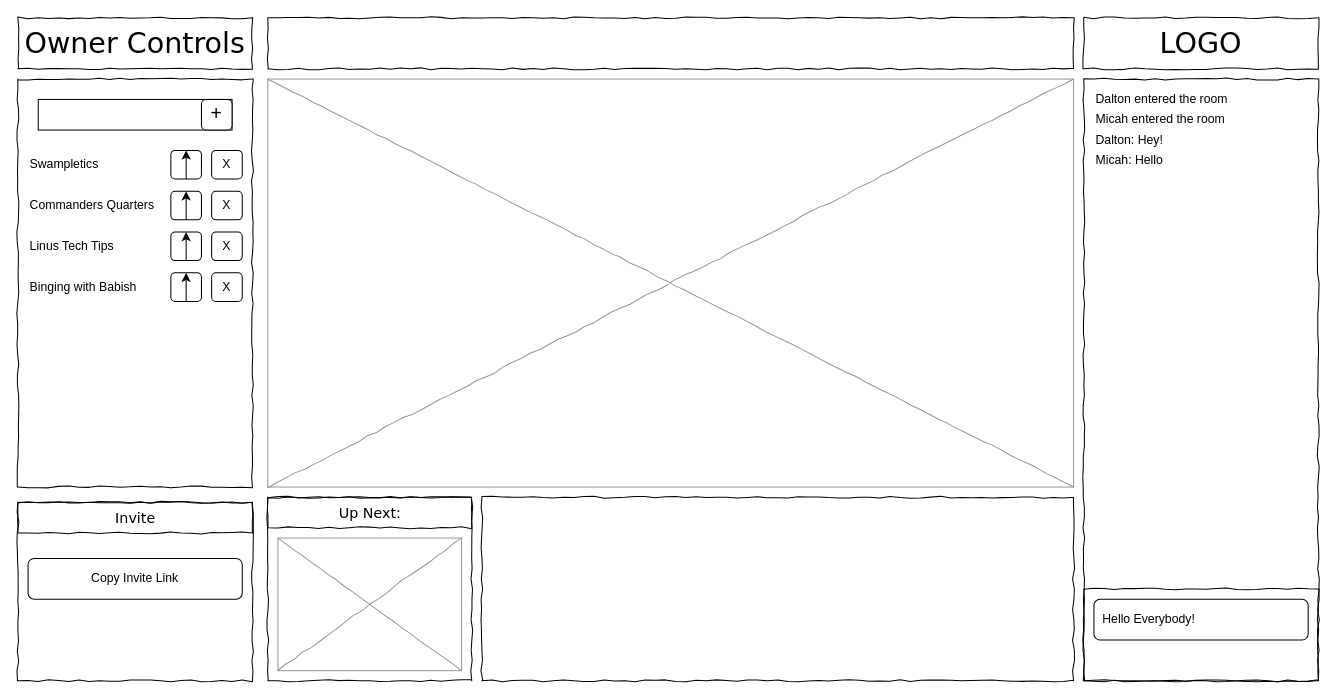
Image size: 1336x699. Some labels were removed from this diagram. Each missing label, with the box of its shape:
By Release #30: (37, 98, 232, 130)
Embedded Youtube Player: (267, 78, 1074, 487)
Video Description: (481, 496, 1074, 681)
Video Title: (267, 17, 1074, 69)
